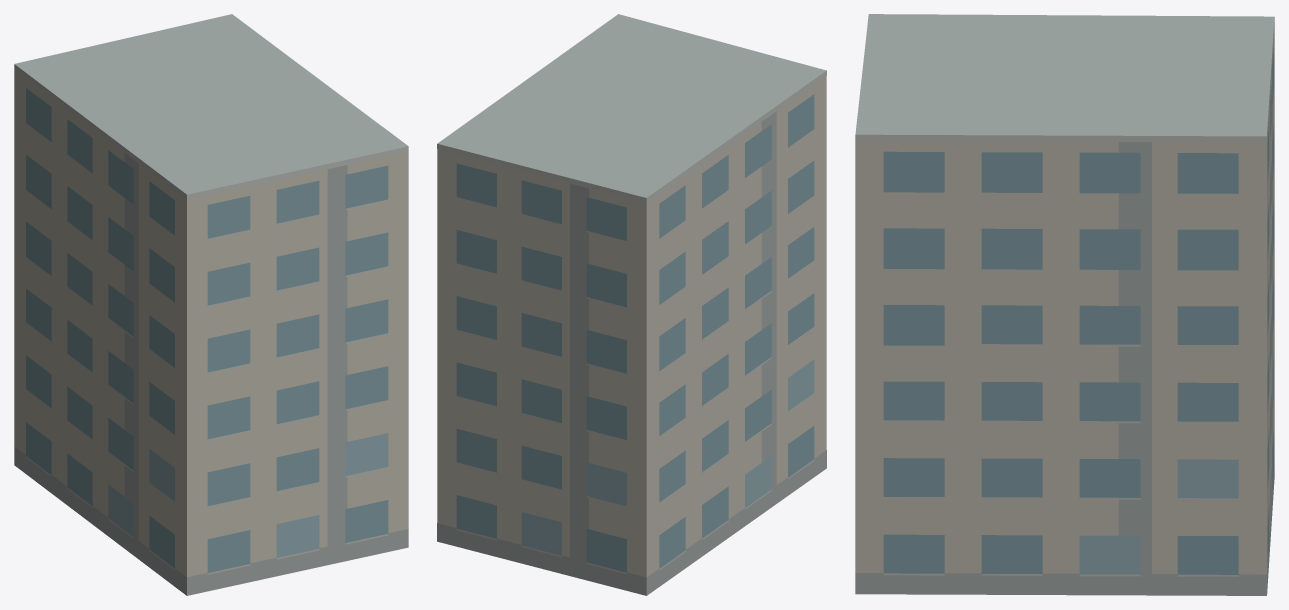
File: survey-upis-32566048.glb
3 views of the same model, side by side, from view 1: azimuth 30°, elevation 25°; view 2: azimuth 150°, elevation 25°; view 3: azimuth 270°, elevation 25° (orthographic). The views are drawn at different scales.
Visible parts, largest first — view 1: survey-upis-32566048.tmp; view 2: survey-upis-32566048.tmp; view 3: survey-upis-32566048.tmp.
Boxes of the visible parts, x1,y1,x2,y2 form: survey-upis-32566048.tmp: (14,14,408,595); survey-upis-32566048.tmp: (437,14,826,595); survey-upis-32566048.tmp: (855,14,1274,595).
Bounding box in the file's own units: 10.46 × 18.3 × 15.14.
